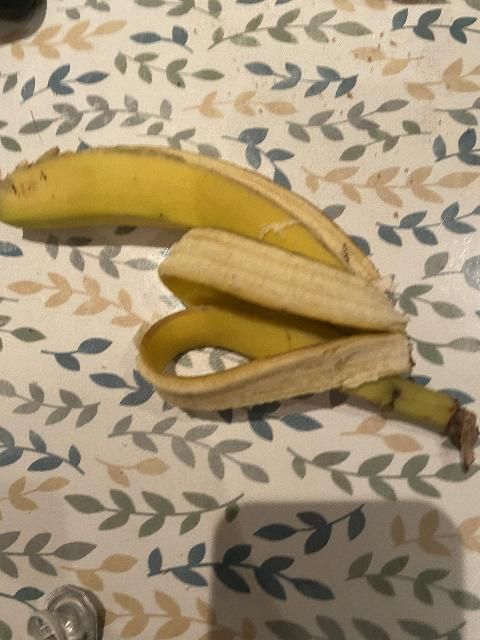Organik: (0, 149, 480, 470)
